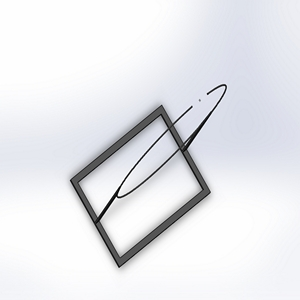circle: (68, 81, 228, 268)
